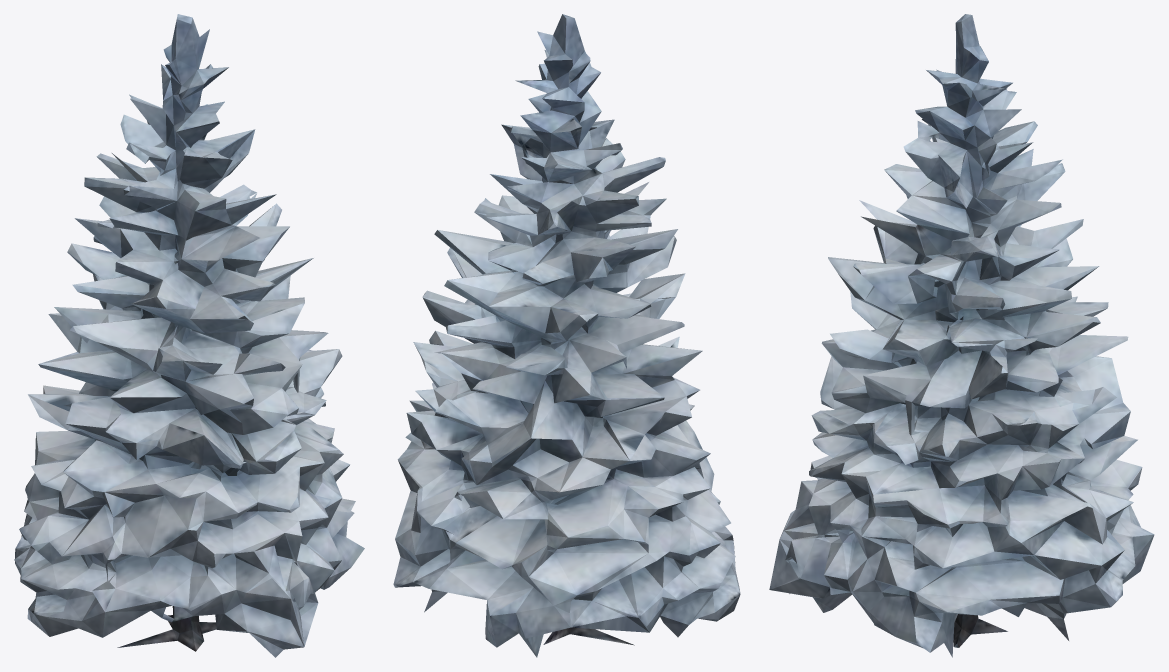
Rendered from arbre4.glb.
3 views of the same model, side by side, from view 1: azimuth 30°, elevation 25°; view 2: azimuth 150°, elevation 25°; view 3: azimuth 270°, elevation 25° (orthographic).
Visible parts, largest first — view 1: world; view 2: world; view 3: world.
Boxes of the visible parts, bbox=[...] form: world: bbox=[14, 14, 364, 657]; world: bbox=[393, 14, 740, 657]; world: bbox=[769, 14, 1154, 657].
Bounding box in the file's own units: 0.5513 × 0.9996 × 0.568.
1 material, 1 textured.
